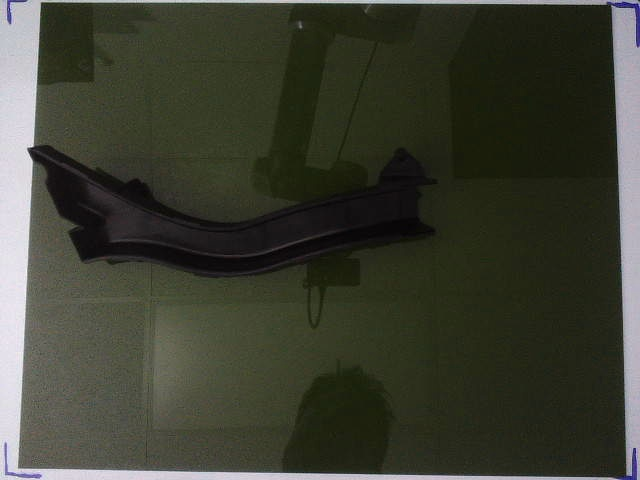887_A-Under: (29, 145, 435, 278)
